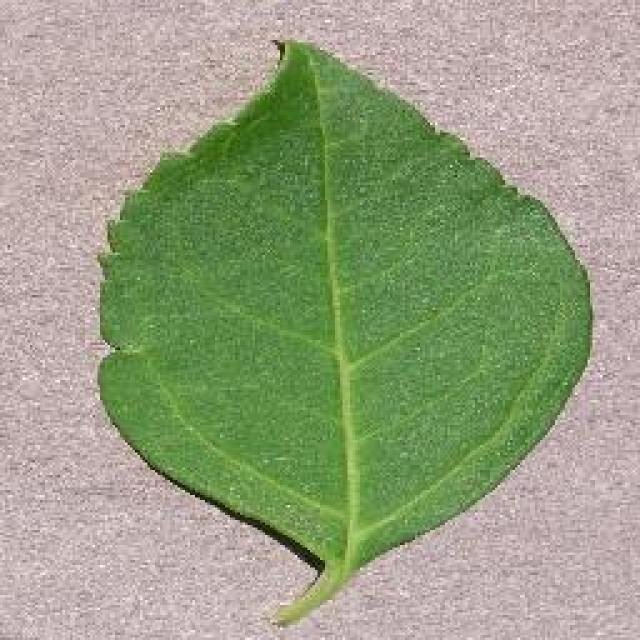Cherry___healthy: (82, 27, 600, 635)
